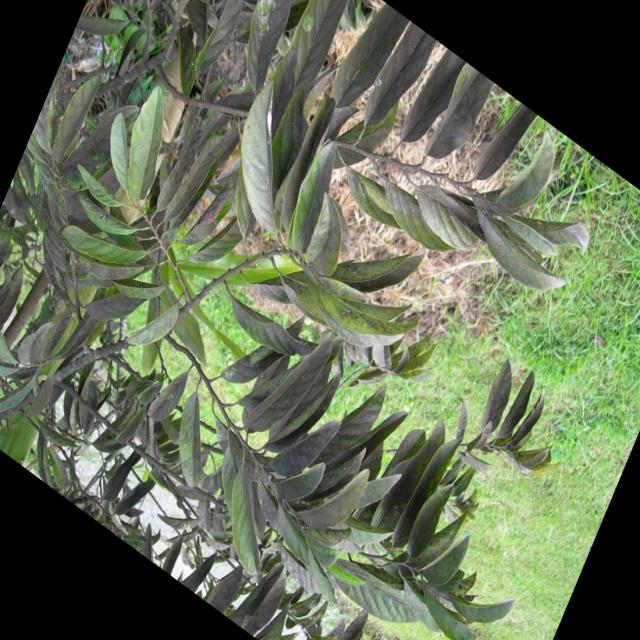Sooty Mold: (1, 0, 588, 638)
